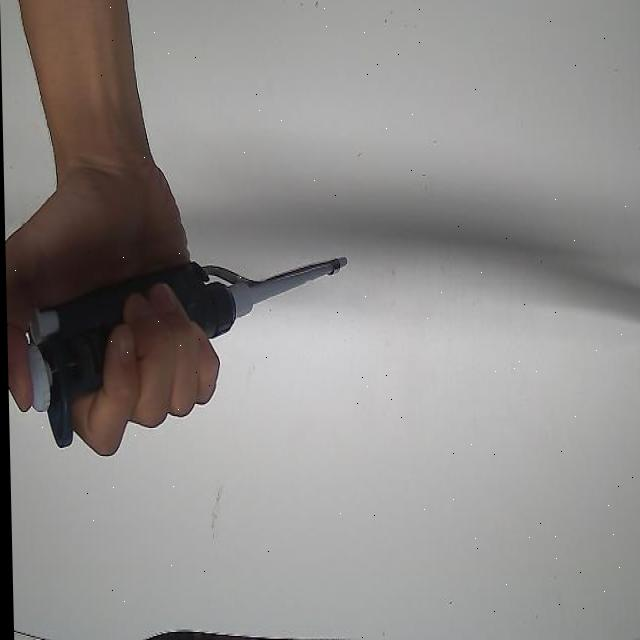Single Channel Pipettor: (23, 252, 352, 450)
